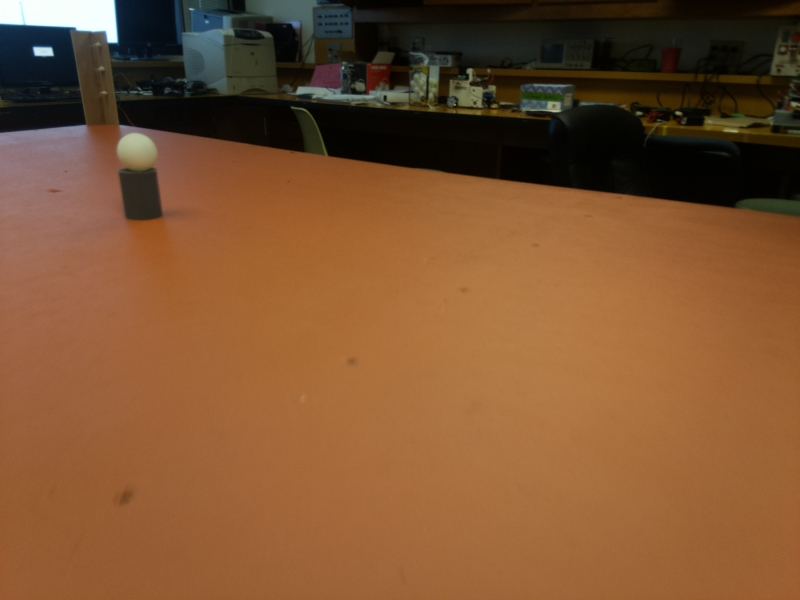corner: (78, 28, 113, 127)
obstacle: (117, 134, 163, 215)
